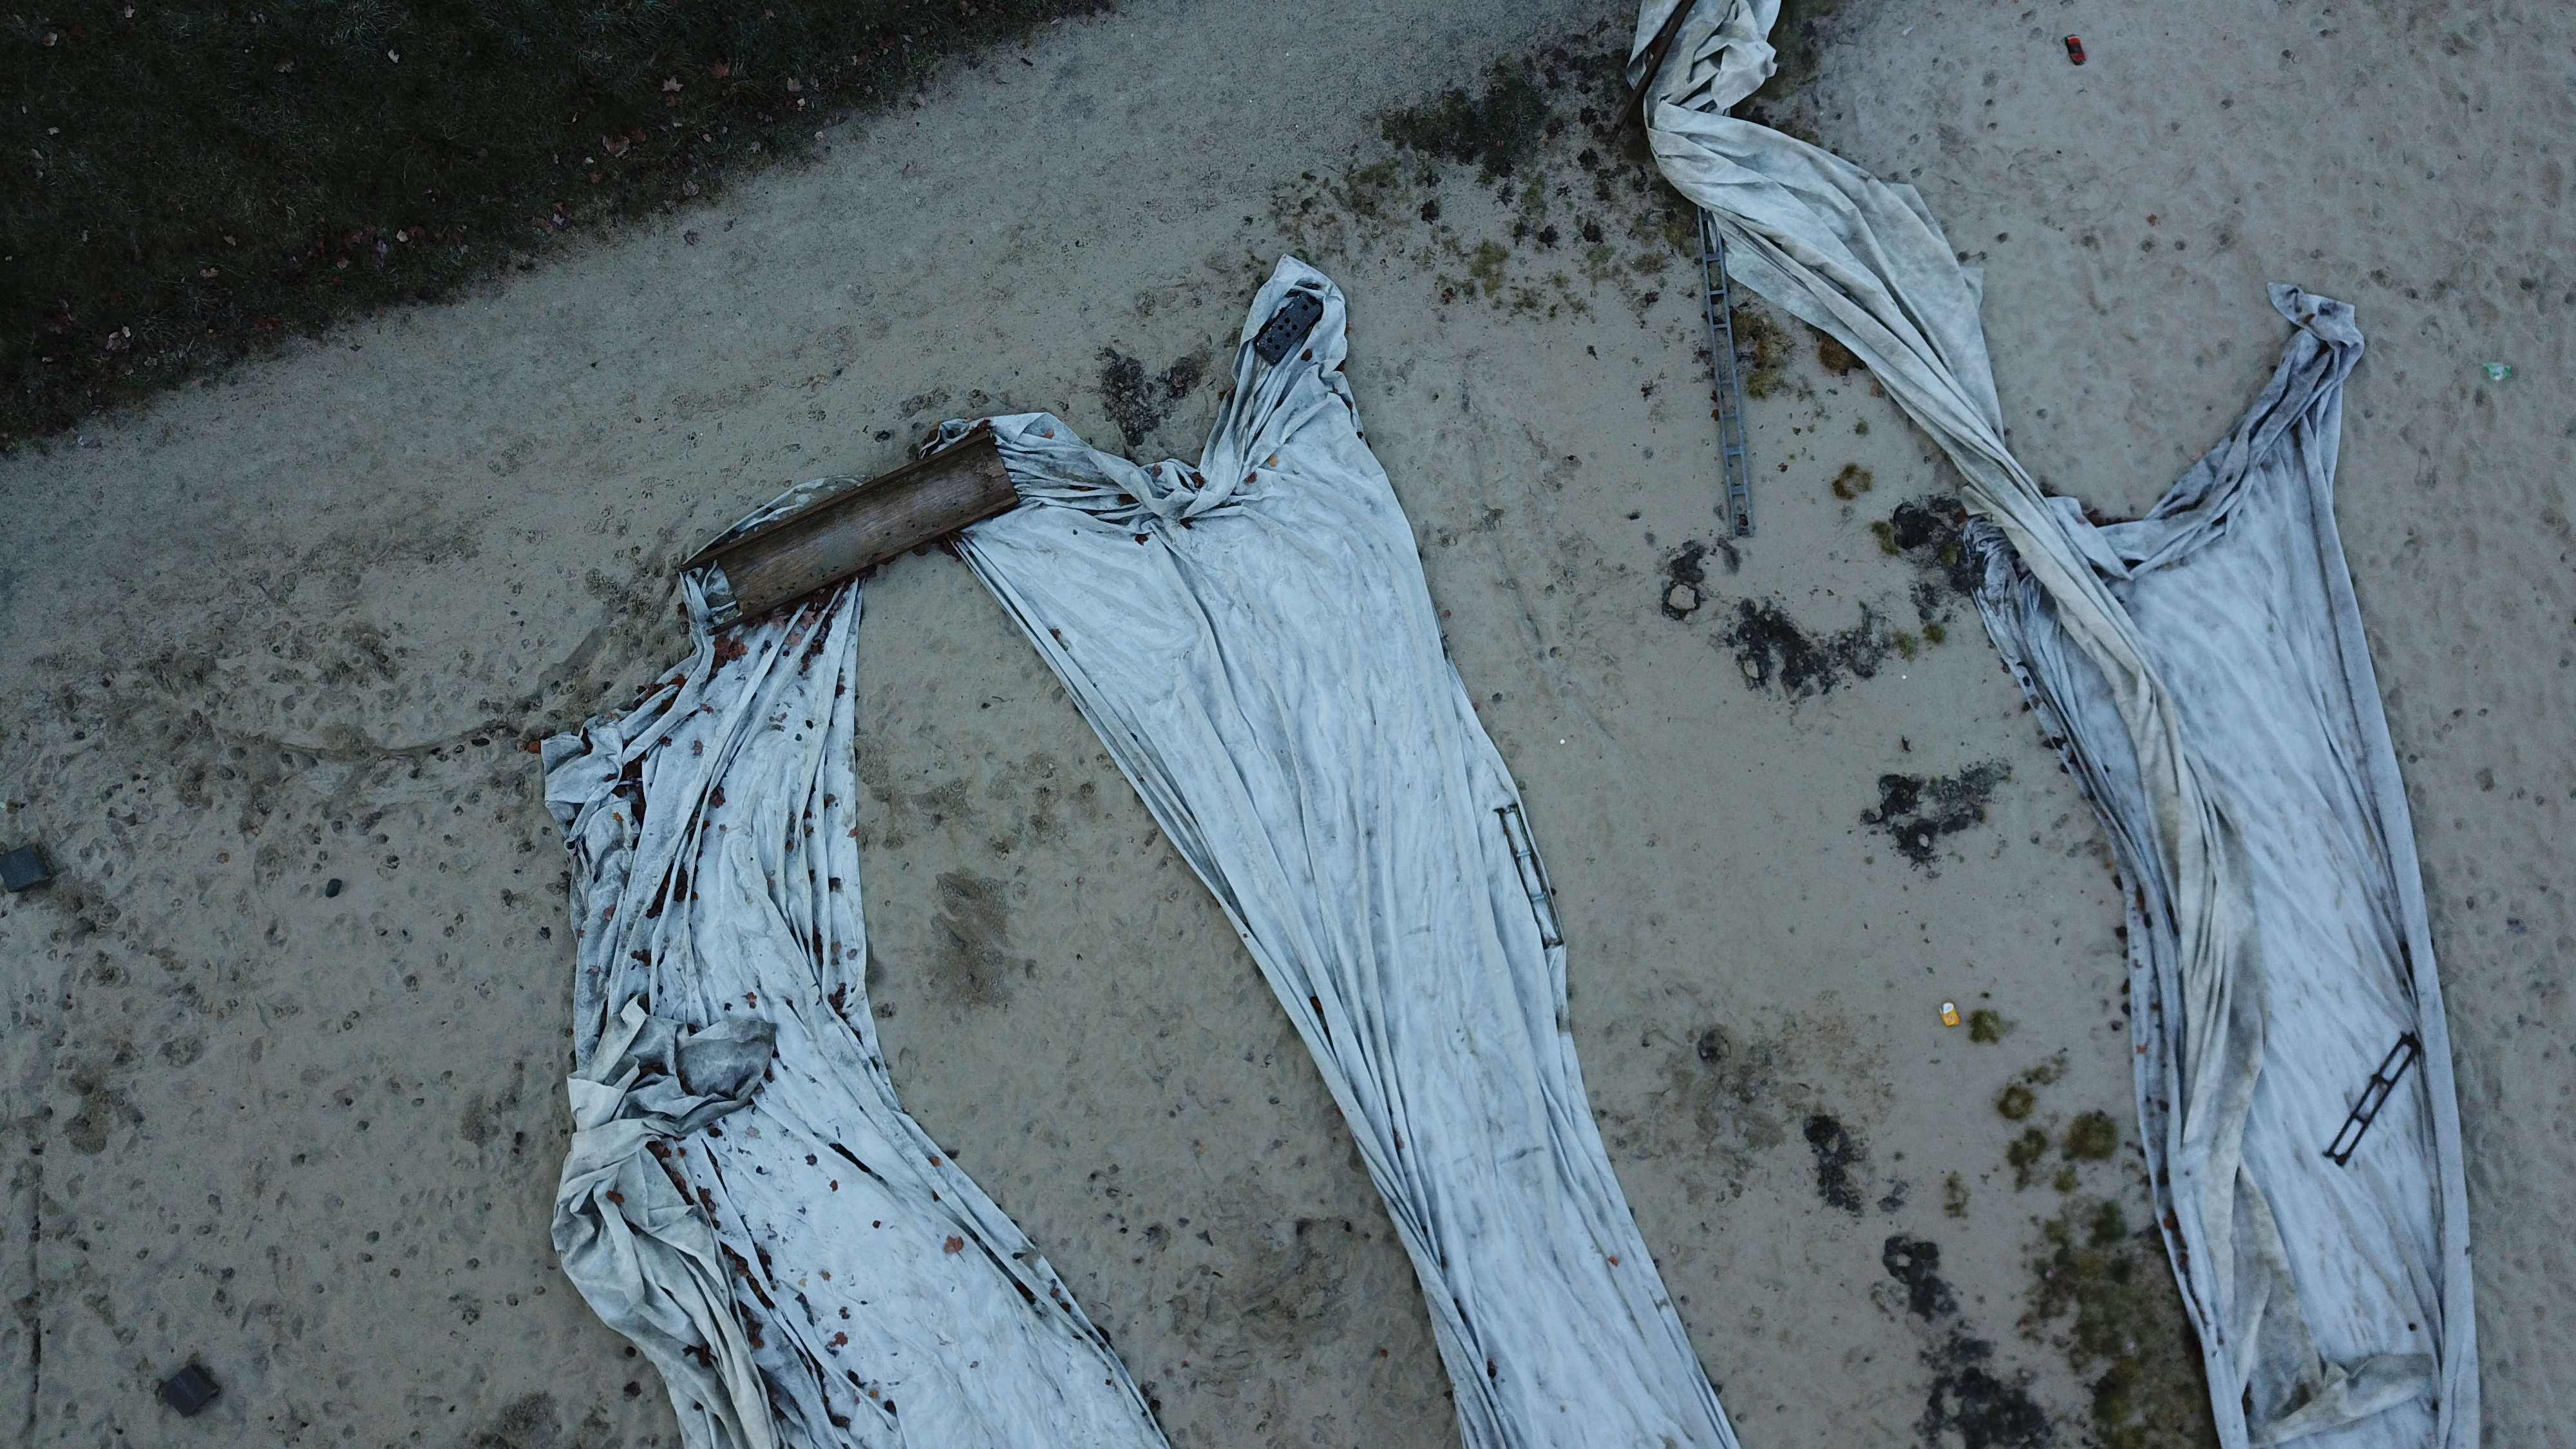Other: (2063, 35, 2088, 69)
Plastic: (2480, 359, 2514, 386), (1937, 1003, 1962, 1026), (1560, 740, 1566, 747)
